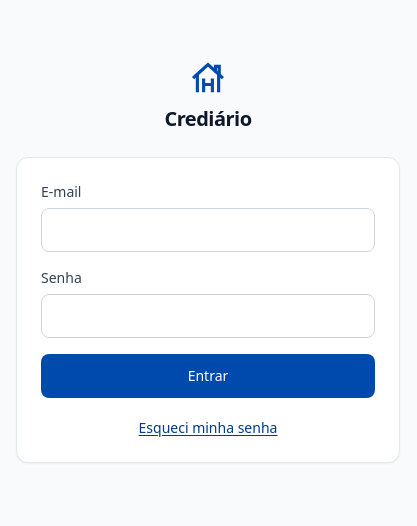
Test case: LoginPage › recuperar senha mostra o erro, e um novo envio apaga o aviso anterior
Type "dono@loja.com" into the field labelled "E-mail" at {"x": 208, "y": 230}, box [41,208,375,252]
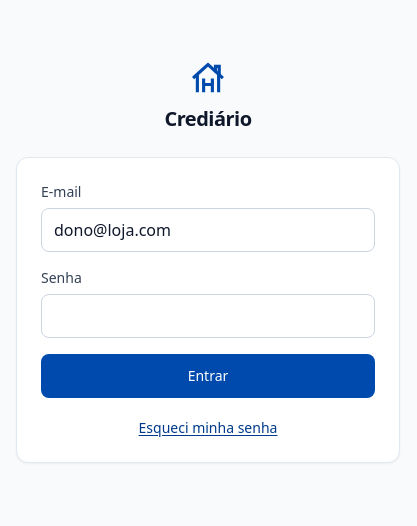
Click the button "Esqueci minha senha" at {"x": 208, "y": 428}, box [130,414,285,442]
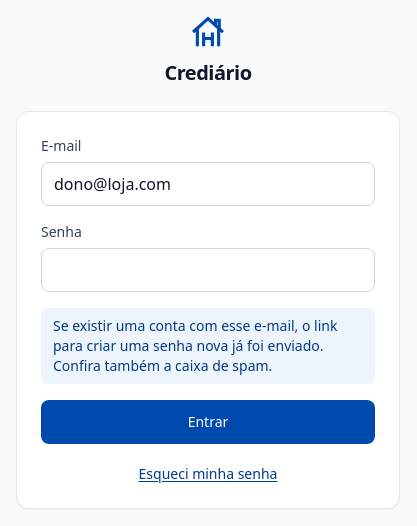
Now the message is shown, box [41,308,375,384]
Click the button "Esqueci minha senha" at {"x": 208, "y": 474}, box [130,460,285,488]
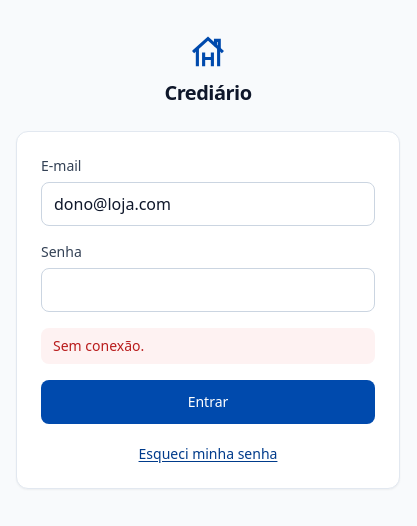
Now the message reads "Sem conexão.", box [53,336,144,355]
Click the button "Esqueci minha senha" at {"x": 208, "y": 454}, box [130,440,285,468]
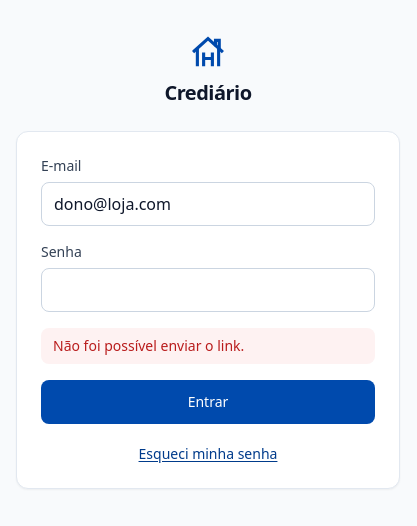
Now the message reads "Não foi possível enviar o link.", box [53,336,244,355]
